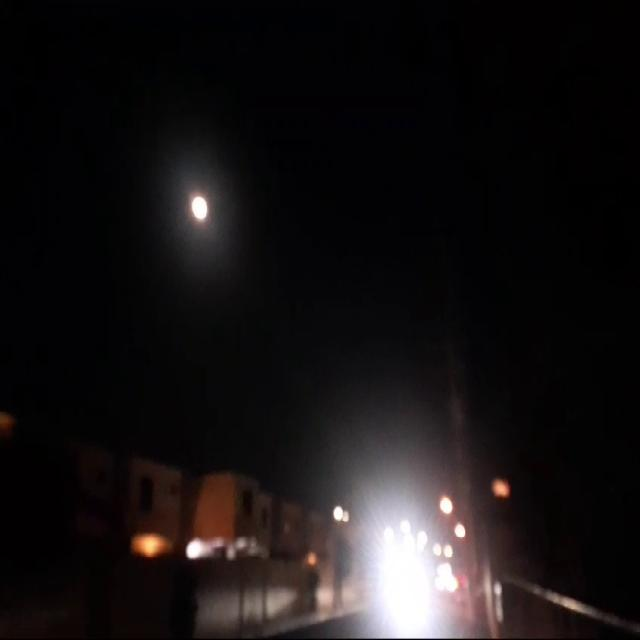moon: (189, 192, 208, 226)
